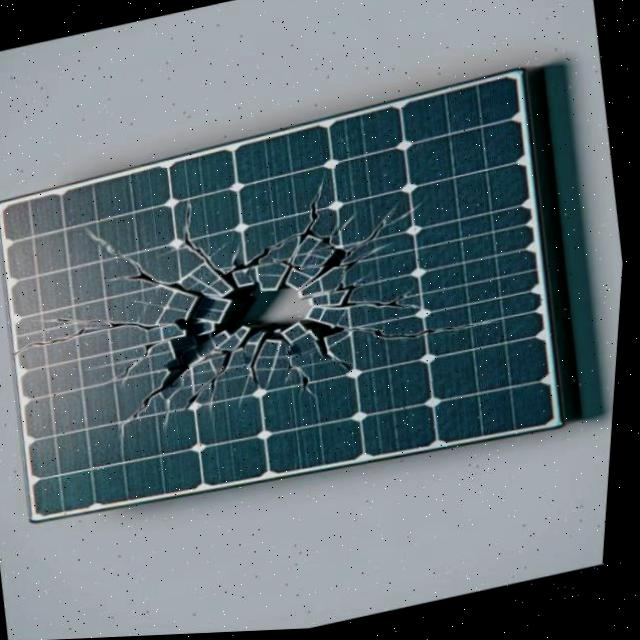Anomaly Solar Panel: (0, 76, 562, 542)
Structural Damage: (161, 272, 330, 376), (227, 183, 359, 304), (66, 229, 201, 326), (13, 302, 175, 358), (156, 204, 253, 295), (342, 196, 424, 275), (185, 347, 246, 426), (317, 284, 429, 321), (112, 331, 173, 396), (301, 245, 351, 305), (333, 244, 398, 287), (348, 328, 501, 346), (275, 359, 326, 412), (295, 310, 348, 361), (121, 388, 166, 438), (161, 379, 193, 435), (242, 344, 270, 396), (275, 258, 319, 287), (160, 361, 197, 390), (333, 360, 361, 378), (241, 379, 254, 411)
